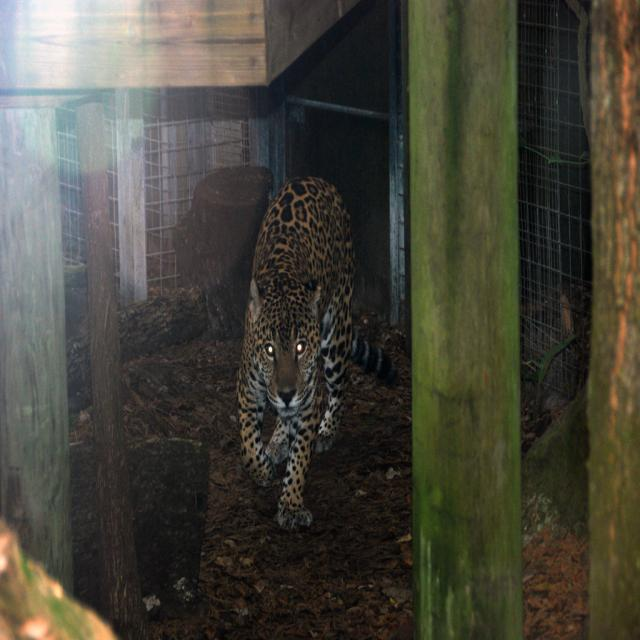Cheetah: (219, 146, 377, 535)
